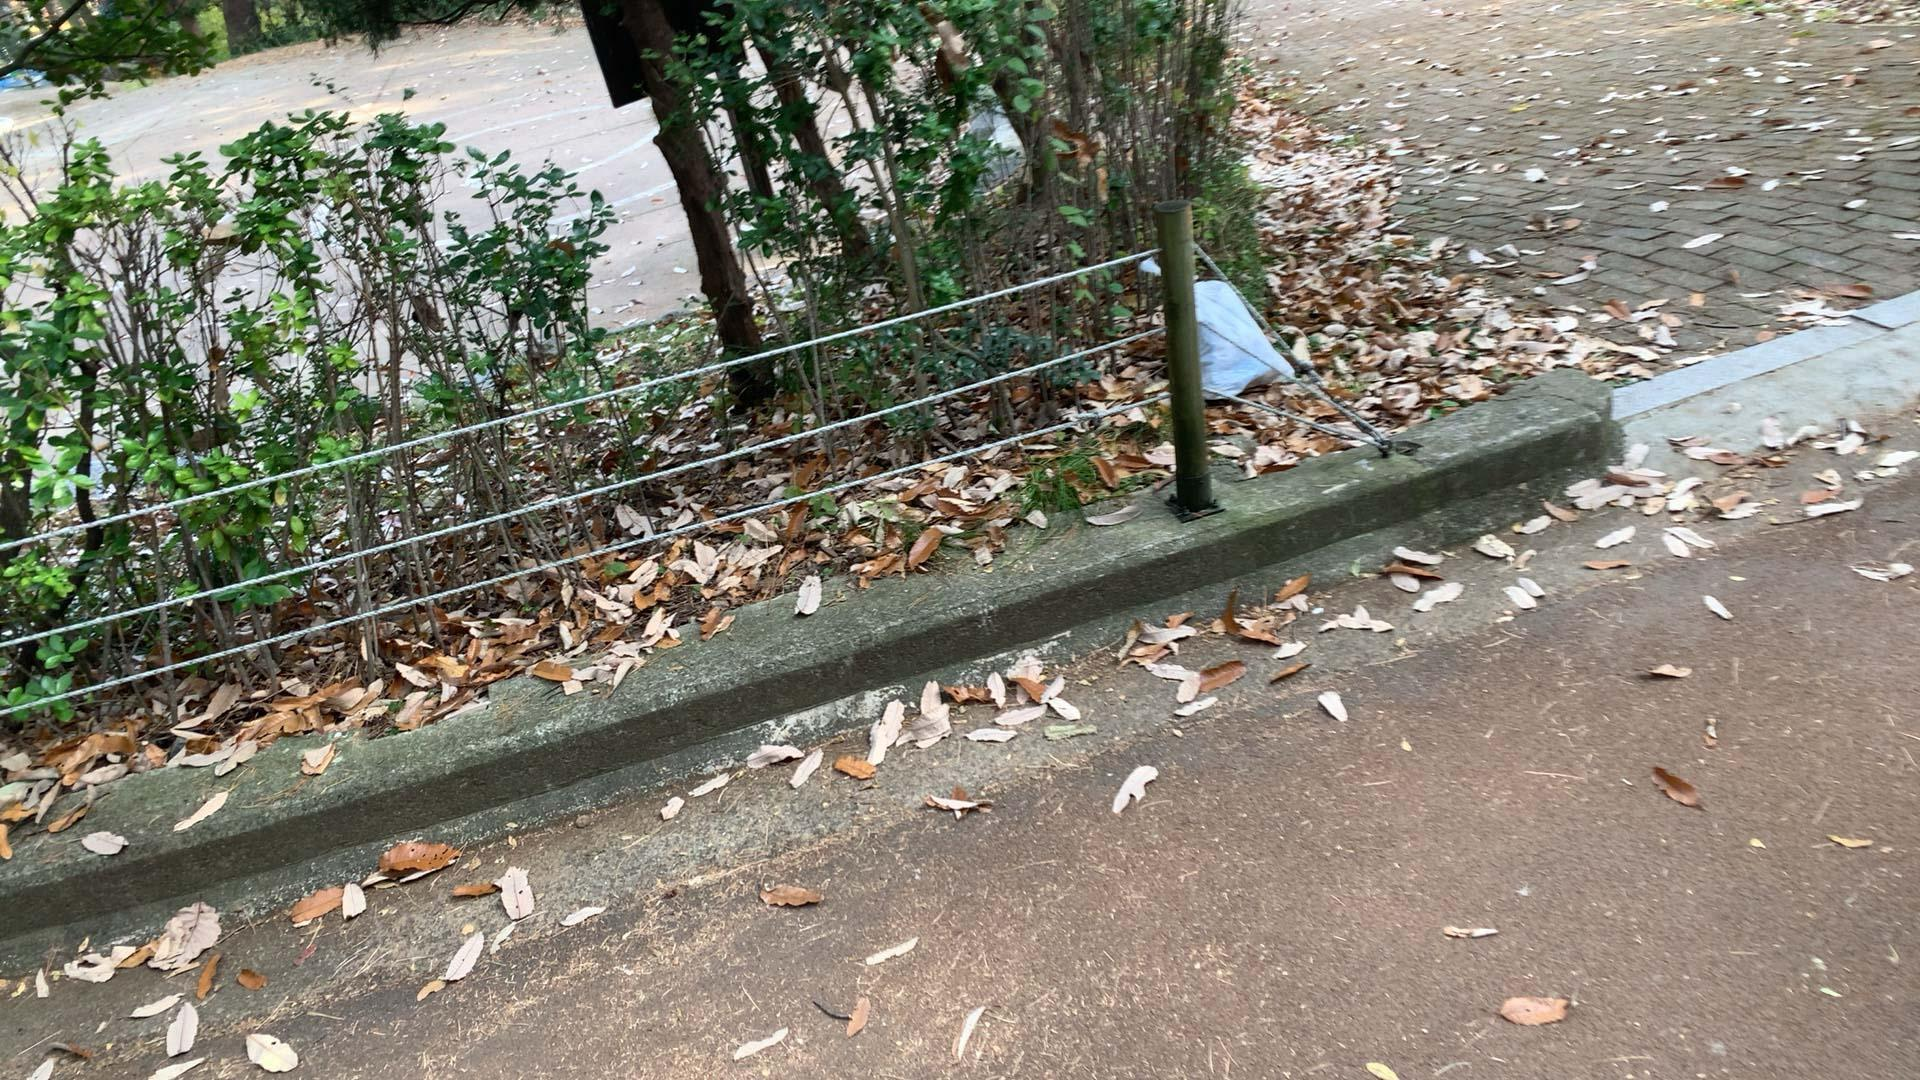white_bag: (1127, 251, 1305, 409)
